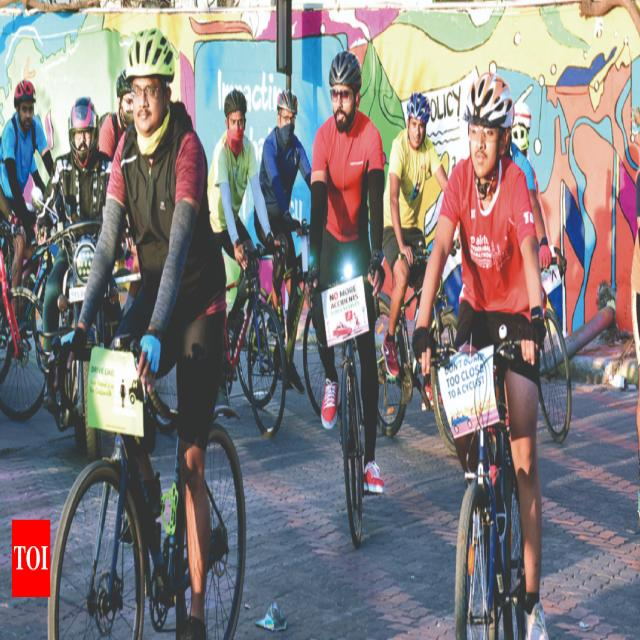bicycle: (49, 30, 245, 639), (412, 74, 548, 639), (309, 51, 385, 547)
